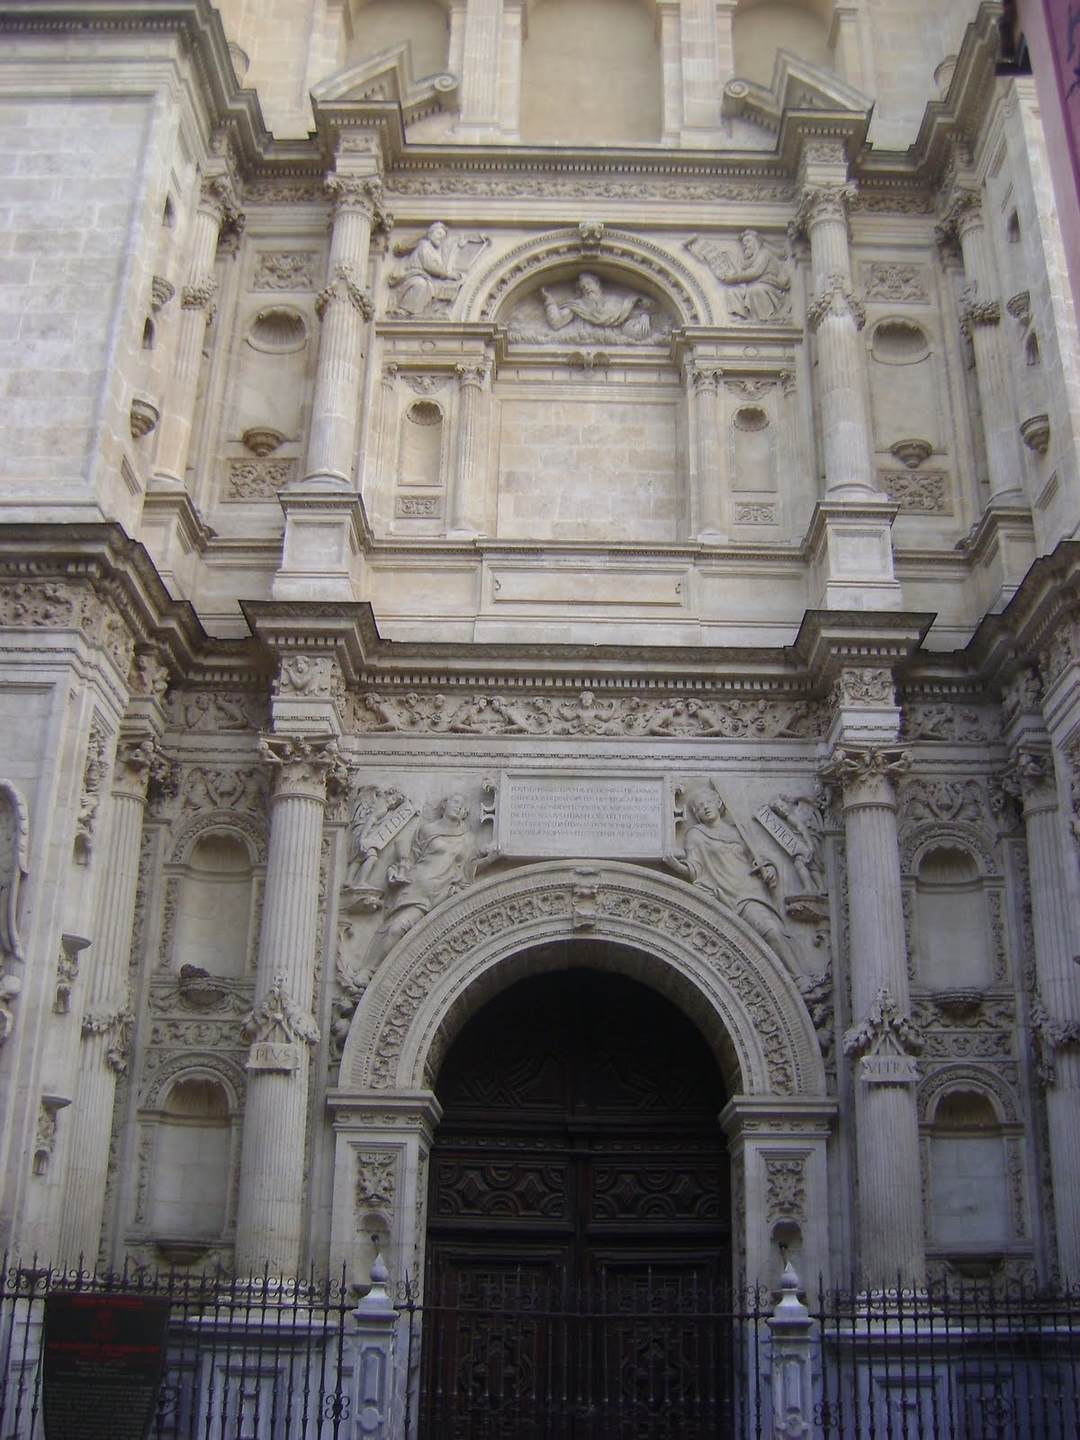arco-medio-punto: (400, 923, 768, 1151), (476, 228, 707, 379)
fronton-partido: (307, 36, 904, 153)
